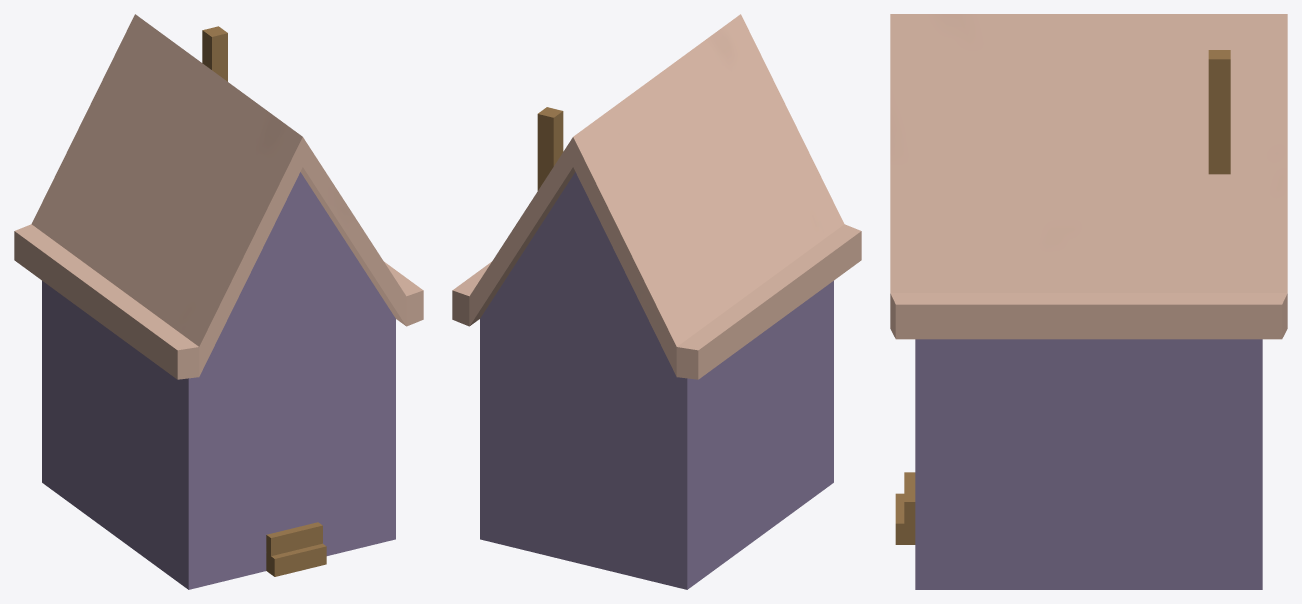
The model's file is my_house.glb.
3 renders of one model, left to right at view 1: azimuth 30°, elevation 25°; view 2: azimuth 150°, elevation 25°; view 3: azimuth 270°, elevation 25°, orthographic. The views are drawn at different scales.
Parts seen in each view (by area): view 1: MyHouse; view 2: MyHouse; view 3: MyHouse.
Part boxes in pixels (x1=…): MyHouse: x1=14, y1=14, x2=423, y2=589; MyHouse: x1=452, y1=14, x2=861, y2=589; MyHouse: x1=890, y1=14, x2=1287, y2=589.
Size of the model in its own units: 0.5815 by 0.9841 by 0.6868.
Materials: 1 (1 with a texture image).
